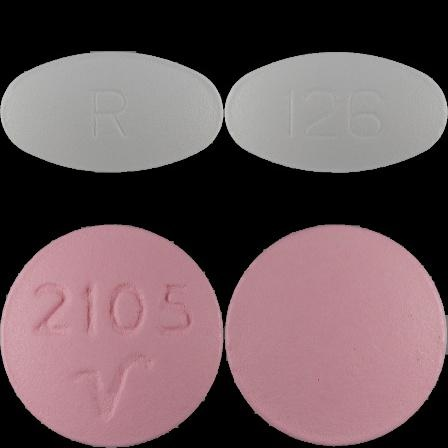68788-9006: (0, 0, 224, 224)
